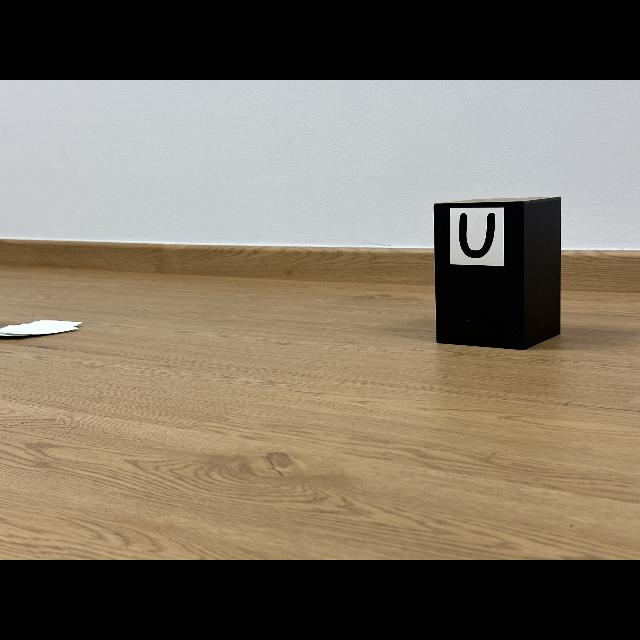U: (459, 212, 495, 259)
